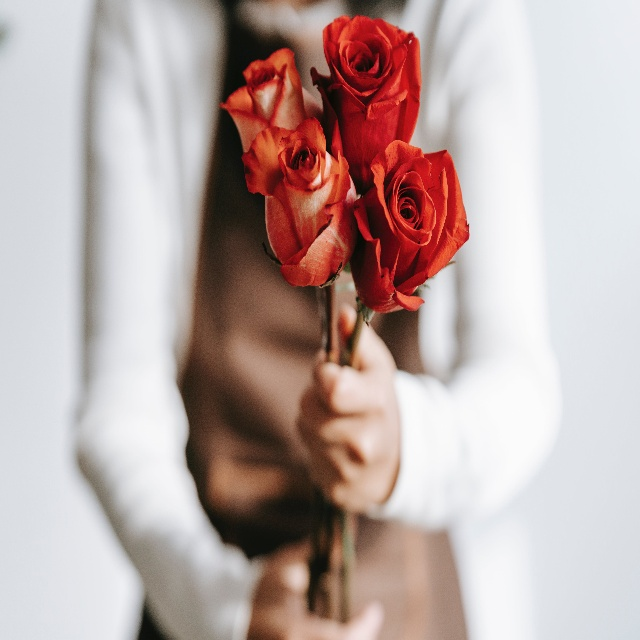Sin_guantes: (295, 302, 403, 517), (246, 533, 381, 640)
